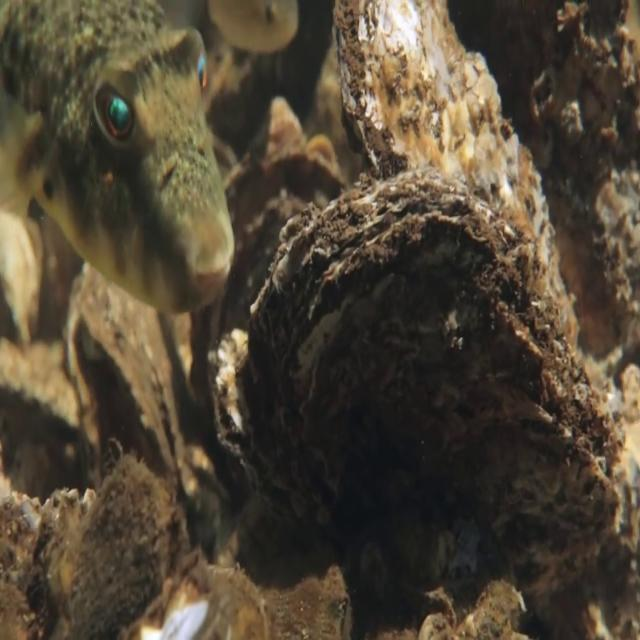Oyster-Closed: (235, 175, 631, 602), (328, 0, 572, 299), (74, 304, 186, 484)
Oyster-Open: (205, 149, 341, 320)
